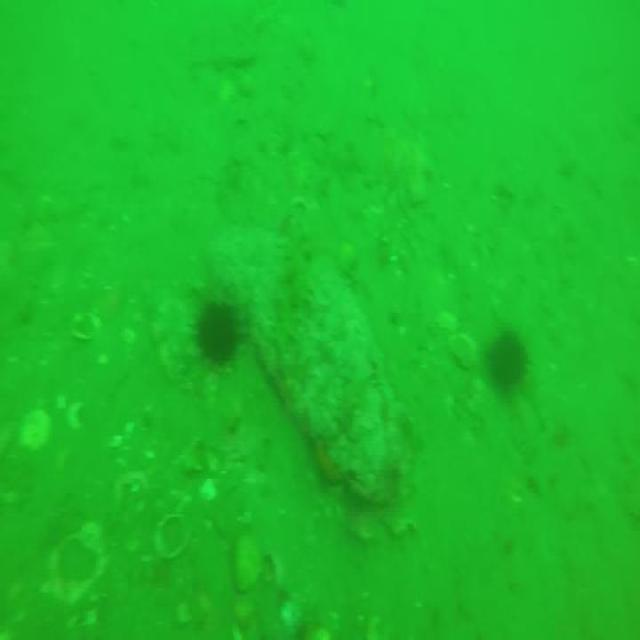echinus: (194, 305, 234, 367), (489, 334, 529, 386)
holothurian: (279, 220, 312, 319)
scallop: (151, 509, 194, 558), (19, 408, 53, 448), (70, 310, 100, 340), (199, 480, 216, 500)
